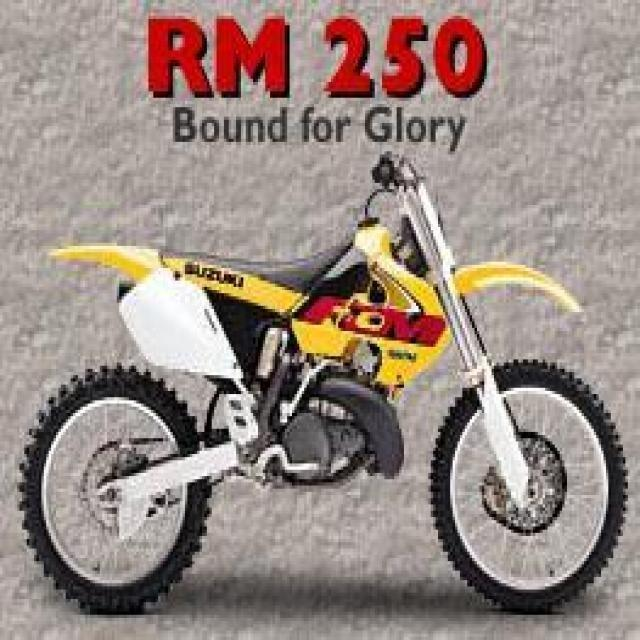Motorcycle: (24, 176, 636, 620)
